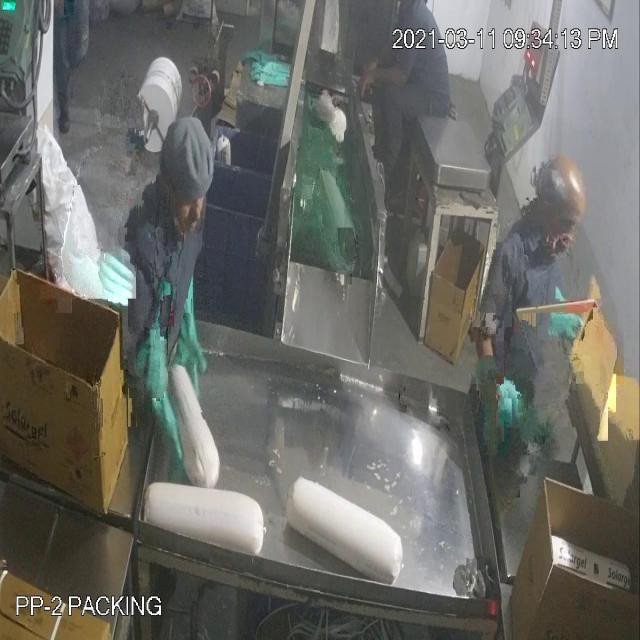No_Gloves: (358, 66, 408, 104)
